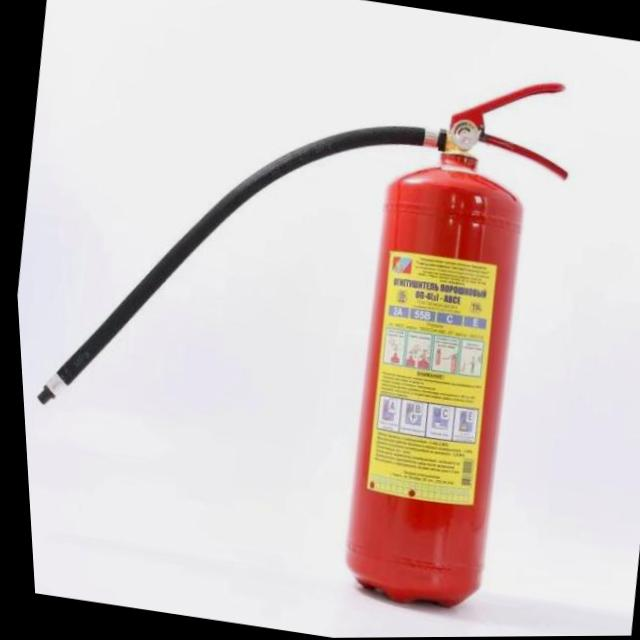FireExtinguisher: (0, 1, 606, 629)
